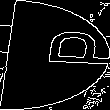P_W: (5, 34, 105, 76)
